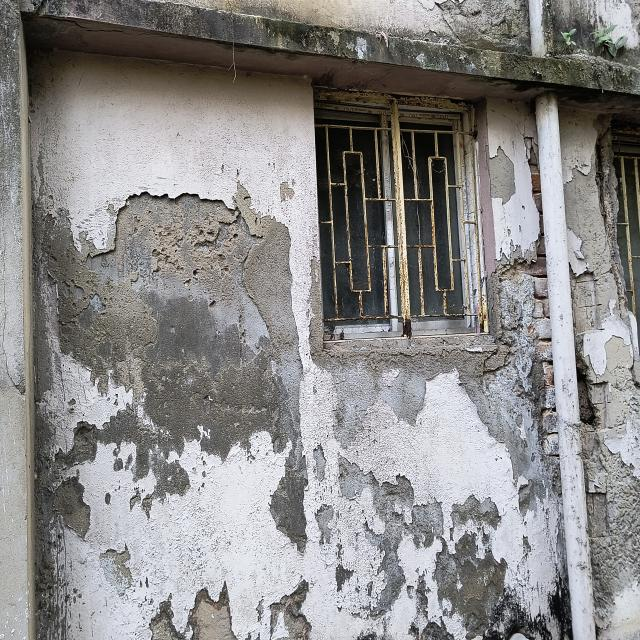Corrosion: (315, 80, 482, 340)
Scaling: (32, 189, 560, 640), (487, 105, 540, 264)
Spalling: (565, 114, 640, 638), (491, 140, 560, 505)
pollution -moisture induced blackening: (21, 0, 640, 96)
